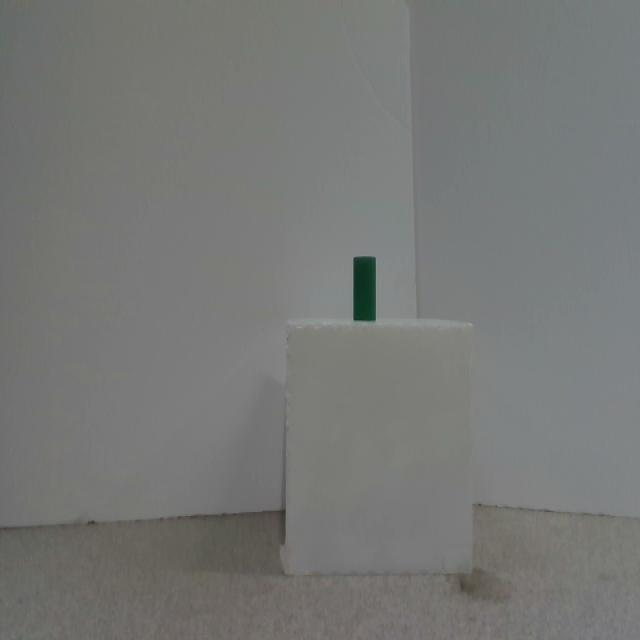green_cylinder: (353, 256, 376, 322)
